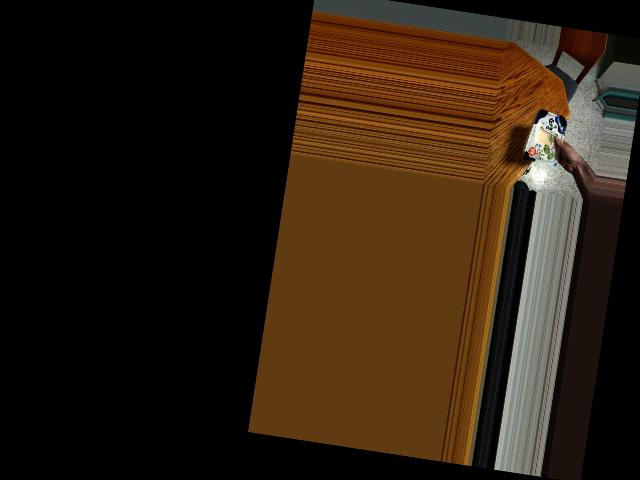cheese: (528, 109, 566, 162)
